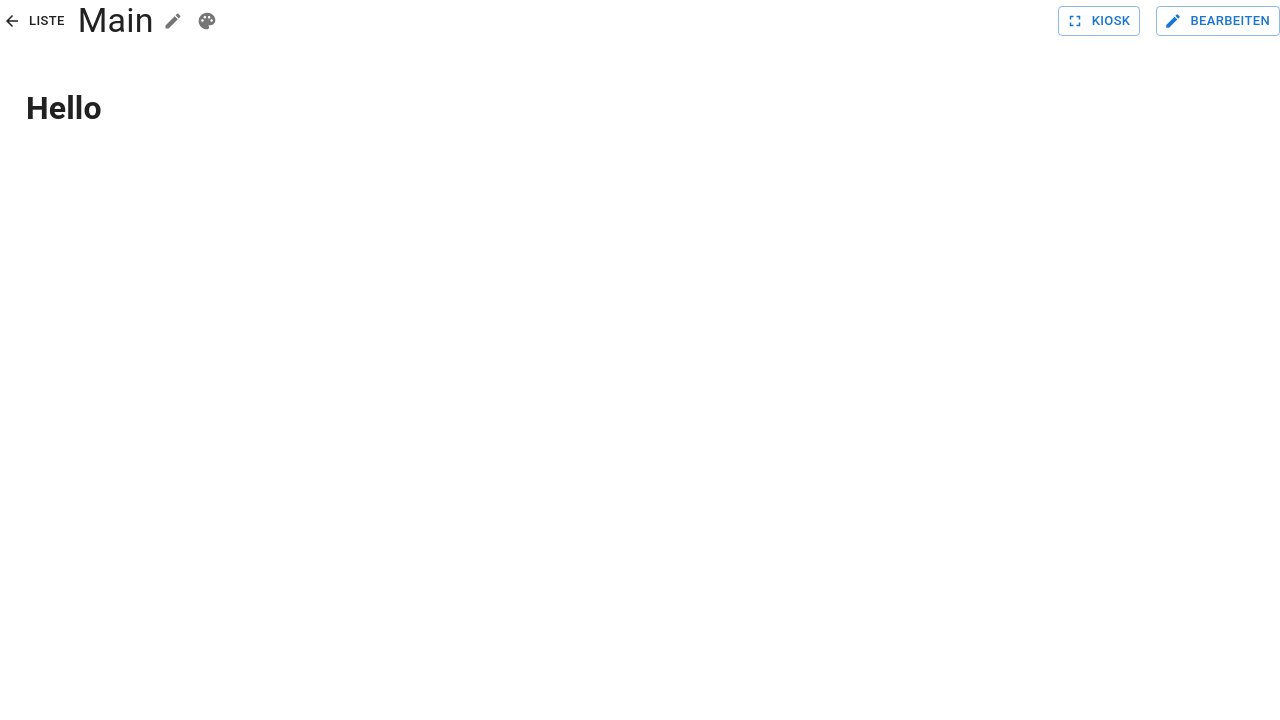
DashboardPage › zeigt eine Inline-Fehlermeldung wenn das Speichern der Farbe fehlschlägt
Expected: the heading "Main" is shown, [78,0,154,42]
Click the button named "Hintergrundfarbe ändern". click: (207, 21)
box: [192,6,222,36]
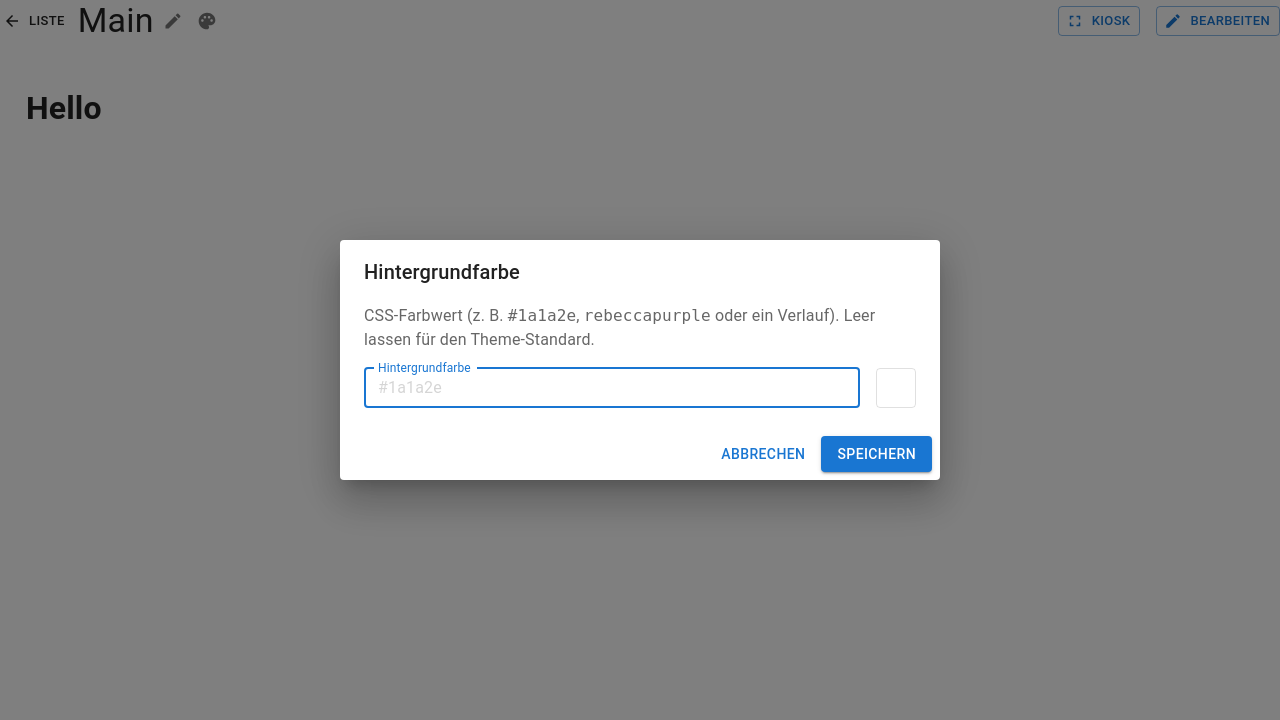
Type "#fff" into the field named "Hintergrundfarbe (CSS)". click: (612, 388)
box: [364,368,860,408]
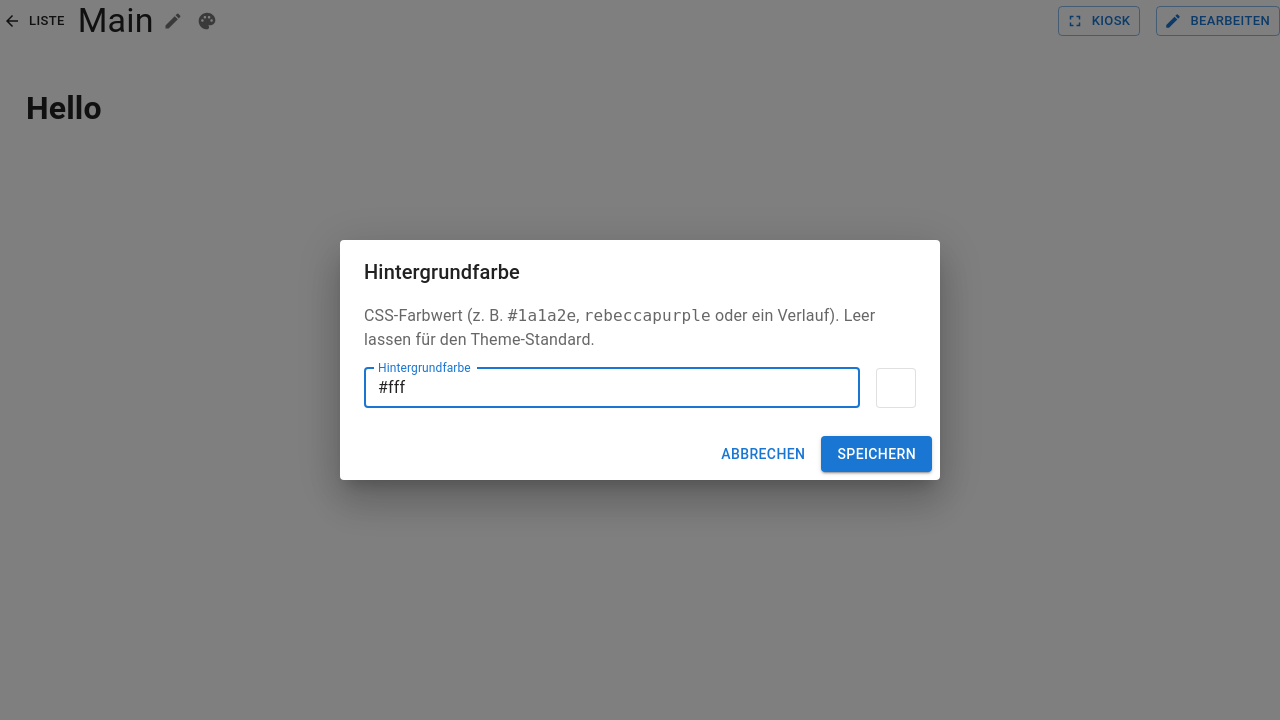
Click the button "Speichern". click: (877, 454)
box: [821,436,932,472]
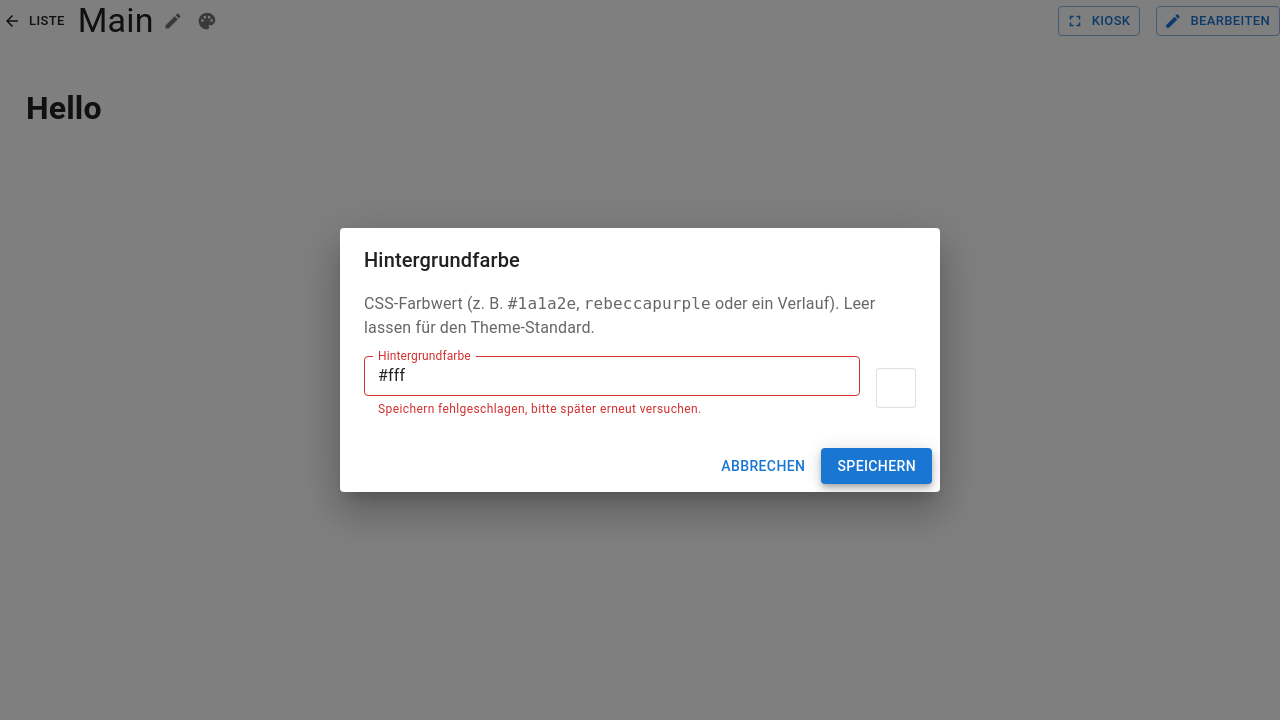
Now the text "Speichern fehlgeschlagen, bitte später erneut versuchen." is shown, box [378,402,702,416]
